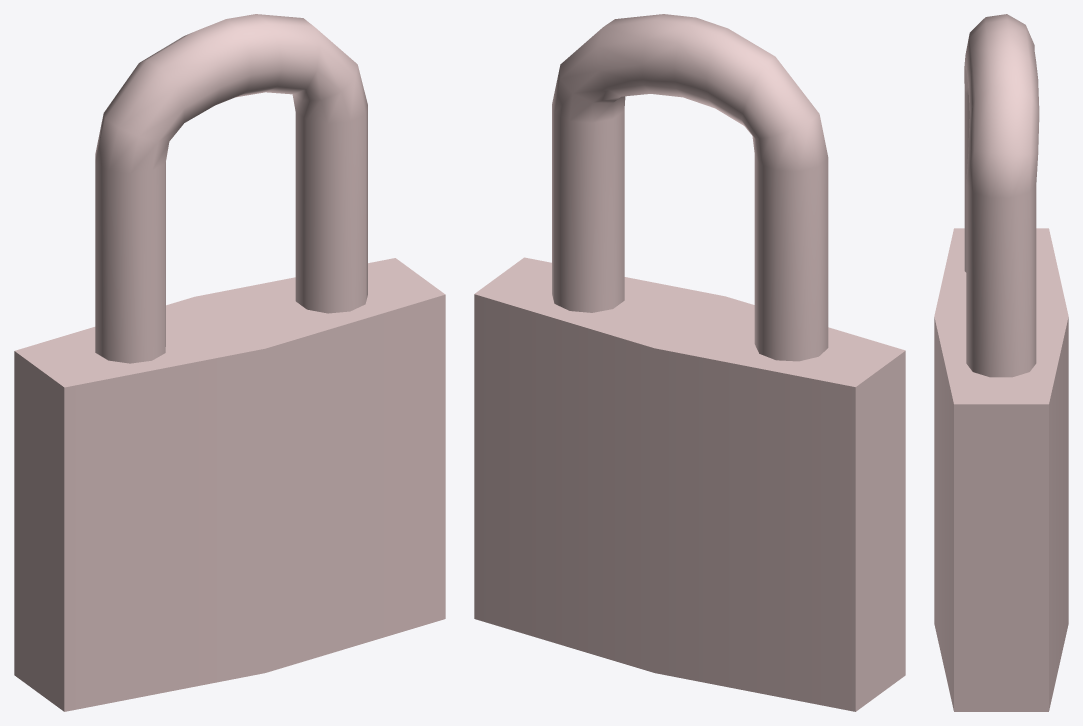
The model's file is Candado.fbx.
3 views of the same model, side by side, from view 1: azimuth 30°, elevation 25°; view 2: azimuth 150°, elevation 25°; view 3: azimuth 270°, elevation 25° (orthographic). The views are drawn at different scales.
Visible parts, largest first — view 1: Candado; view 2: Candado; view 3: Candado.
Boxes of the visible parts, <box> form: Candado: <box>14,14,445,711</box>; Candado: <box>474,14,905,711</box>; Candado: <box>934,14,1068,711</box>.
Size of the model in its own units: 0.2846 by 0.4462 by 0.0917.
